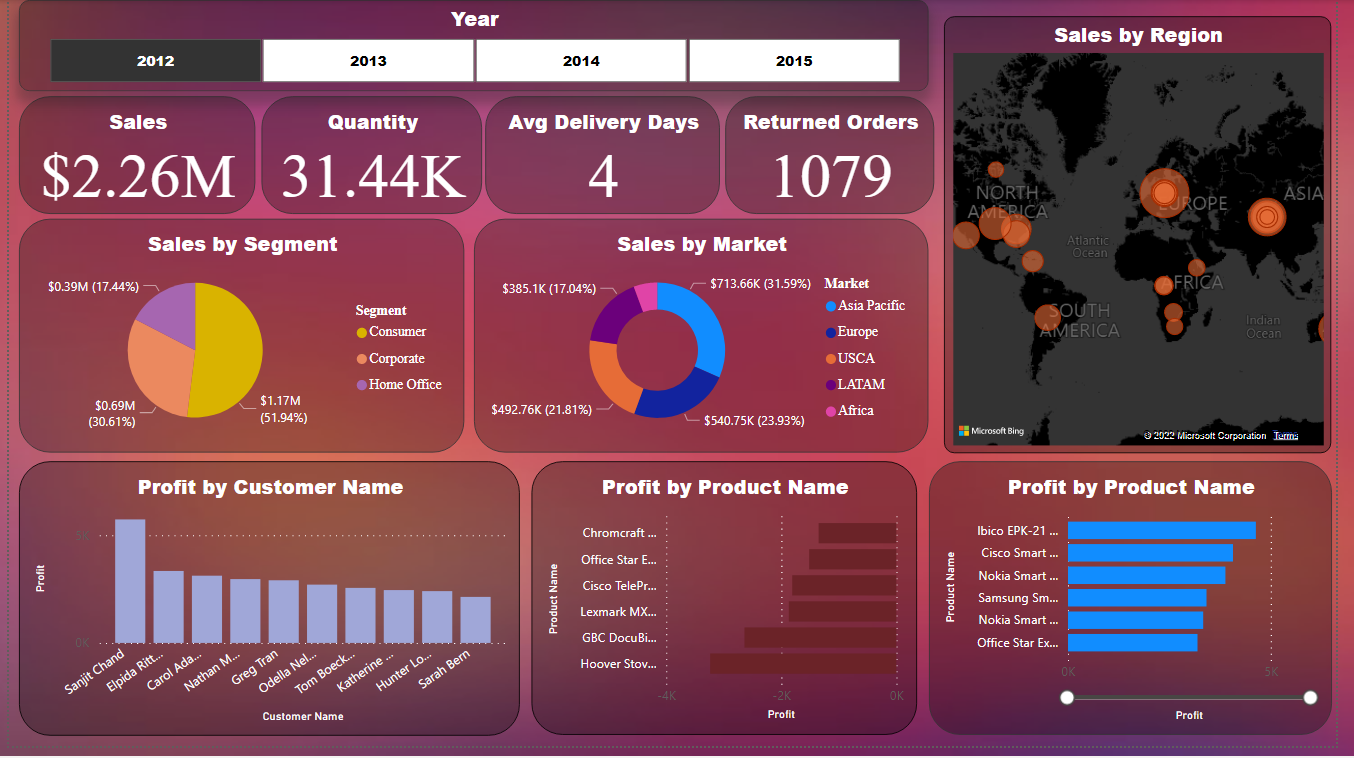

Layout of this report page (visuals, bound fields, positions):
{"tool":"powerbi","page":{"name":"Page 1","canvas":[1280,720],"ordinal":0},"visuals":[{"type":"card","title":"Sales","fields":{"Values":["Orders.Sales"]},"box":[9.6,93.4,228,114],"z":0},{"type":"card","title":"Quantity","fields":{"Values":["Orders.Quantity"]},"box":[243.1,93.4,212.9,114],"z":1000},{"type":"card","title":"Avg Delivery Days","fields":{"Values":["Orders.Delivery Days"]},"box":[460.1,93.4,226.6,114],"z":2000},{"type":"slicer","title":"Year","fields":{"Values":["Orders.Year"]},"box":[9.6,0,877.6,87.9],"z":3000},{"type":"card","title":"Returned Orders","fields":{"Values":["Returns.Return orders"]},"box":[690.8,93.4,201.9,114],"z":4000},{"type":"map","fields":{"Category":["Orders.Region"],"Size":["Orders.Sales"]},"box":[902.3,15.1,373.6,421.6],"z":5000},{"type":"barChart","fields":{"Y":["Orders.Profit"],"Category":["Orders.Product Name"]},"box":[887.2,445,388.7,263.7],"z":6000},{"type":"barChart","fields":{"Y":["Orders.Profit"],"Category":["Orders.Product Name"]},"box":[504,445,372.2,263.7],"z":6001},{"type":"pieChart","fields":{"Category":["Orders.Segment"],"Y":["Orders.Sales"]},"box":[9.6,211.5,429.9,225.2],"z":6002},{"type":"donutChart","fields":{"Y":["Orders.Sales"],"Category":["Orders.Market"]},"box":[449.1,211.5,438.1,225.2],"z":6003},{"type":"columnChart","fields":{"Y":["Orders.Profit"],"Category":["Orders.Customer Name"]},"box":[9.6,445,483.4,265.1],"z":6004}]}

Visuals, with their boxes in screenshot pixels (x1, y1, x2, y2), scaled from the page's 1280x720 canvas onto the 1354x758 screenshot:
"Sales" card: bbox(10, 98, 251, 218)
"Quantity" card: bbox(257, 98, 482, 218)
"Avg Delivery Days" card: bbox(487, 98, 726, 218)
"Year" slicer: bbox(10, 0, 938, 93)
"Returned Orders" card: bbox(731, 98, 944, 218)
map - Orders.Region x Orders.Sales: bbox(954, 16, 1350, 460)
barChart - Orders.Profit x Orders.Product Name: bbox(938, 468, 1350, 746)
barChart - Orders.Profit x Orders.Product Name: bbox(533, 468, 927, 746)
pieChart - Orders.Segment x Orders.Sales: bbox(10, 223, 465, 460)
donutChart - Orders.Sales x Orders.Market: bbox(475, 223, 938, 460)
columnChart - Orders.Profit x Orders.Customer Name: bbox(10, 468, 522, 748)
